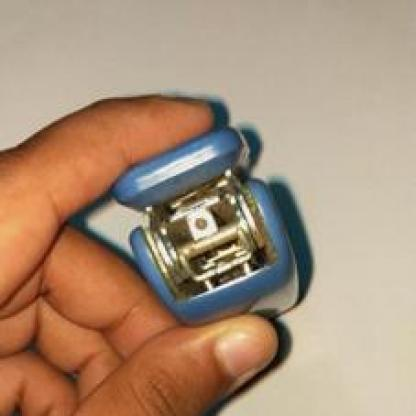stapler: (106, 106, 312, 330)
